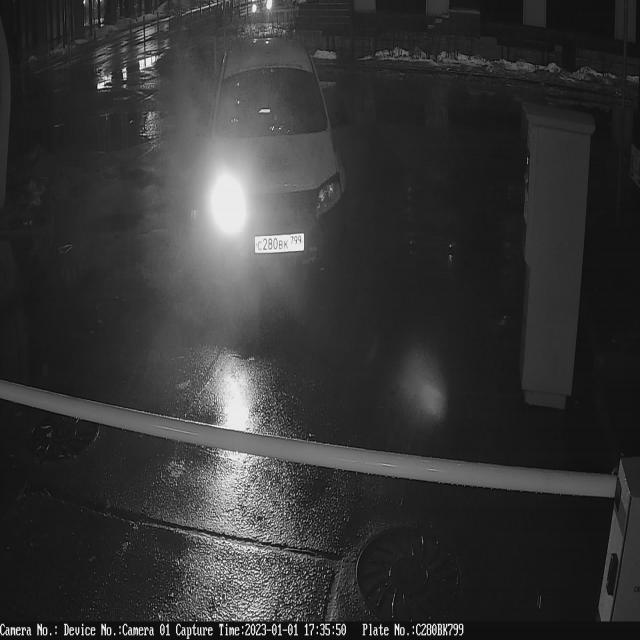car-plate-numbers: (254, 231, 308, 258)
